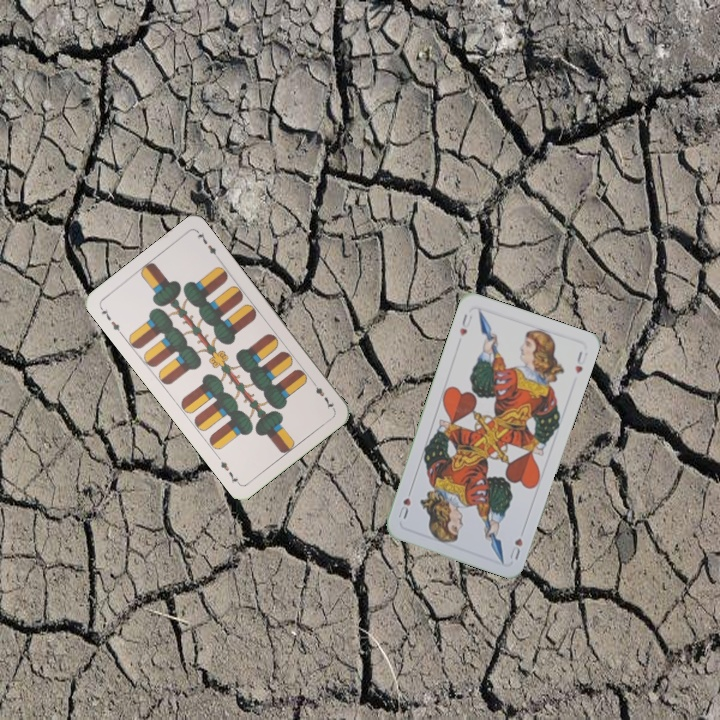E7: (308, 377, 337, 412), (96, 303, 125, 338)
HU: (456, 310, 475, 339), (506, 534, 525, 563)
